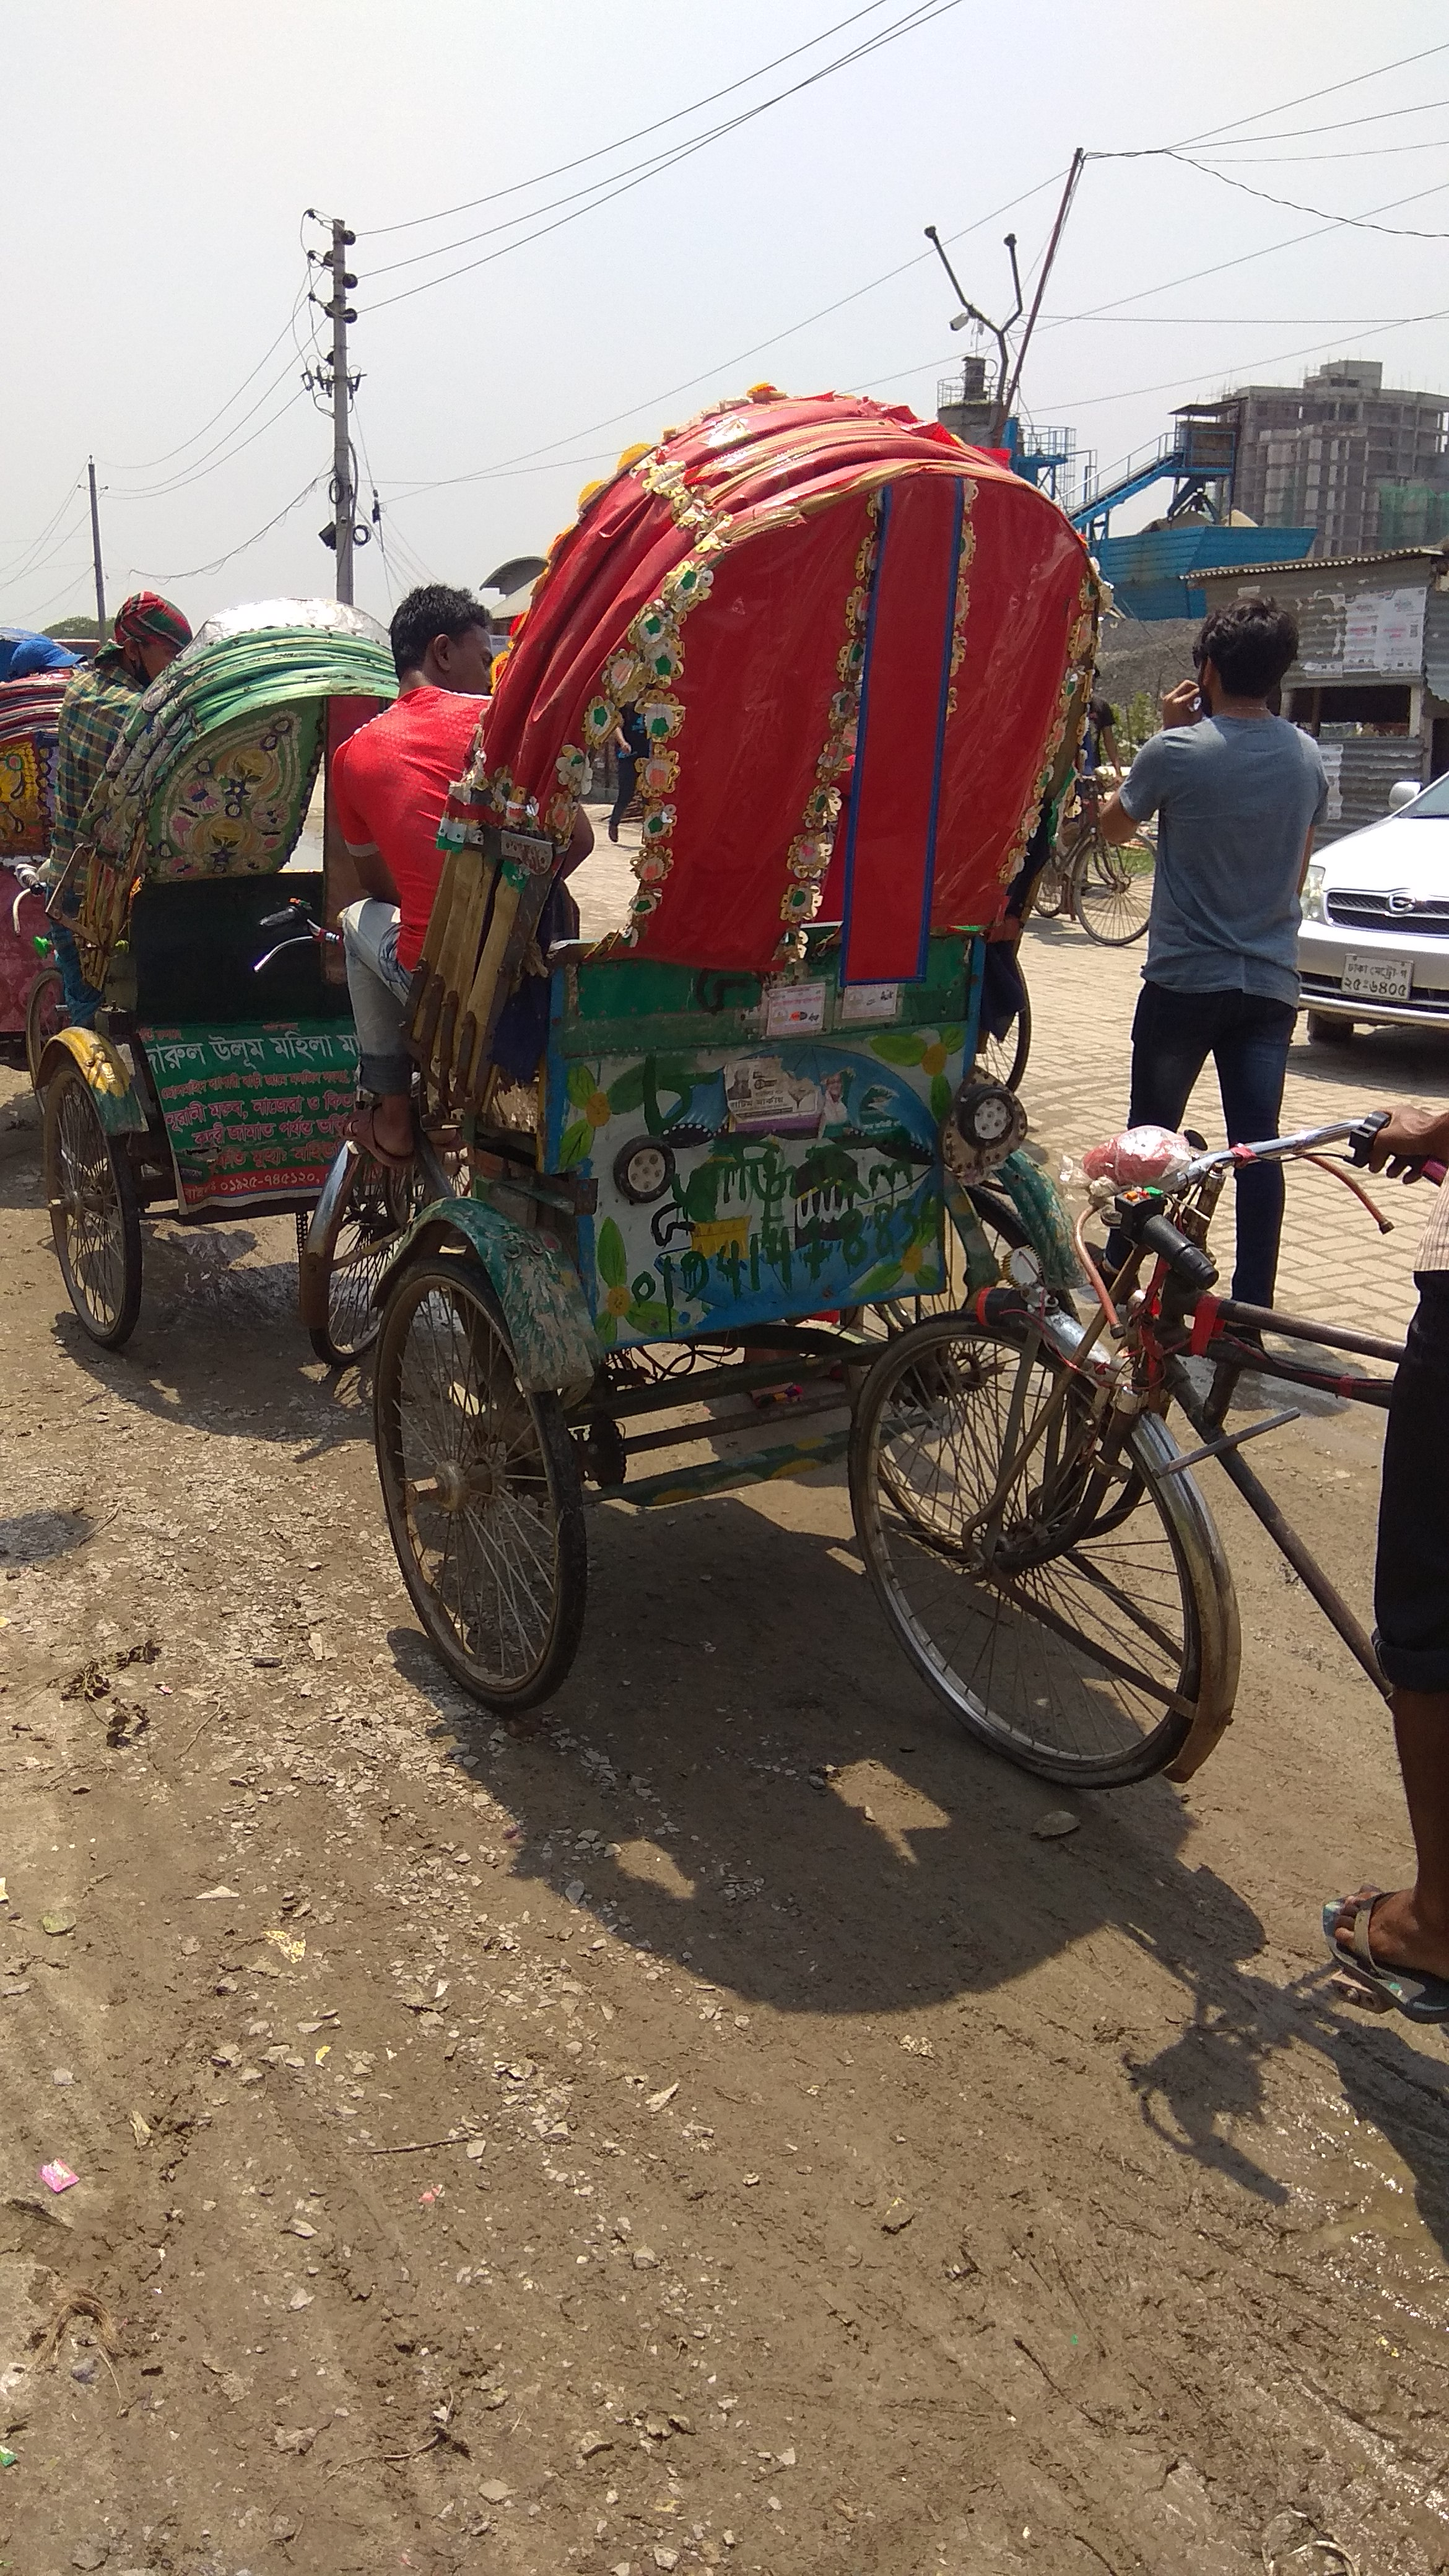Rickshaw: (405, 368, 1113, 1714), (879, 1037, 1444, 2059), (71, 579, 479, 1391), (9, 586, 62, 1017)
